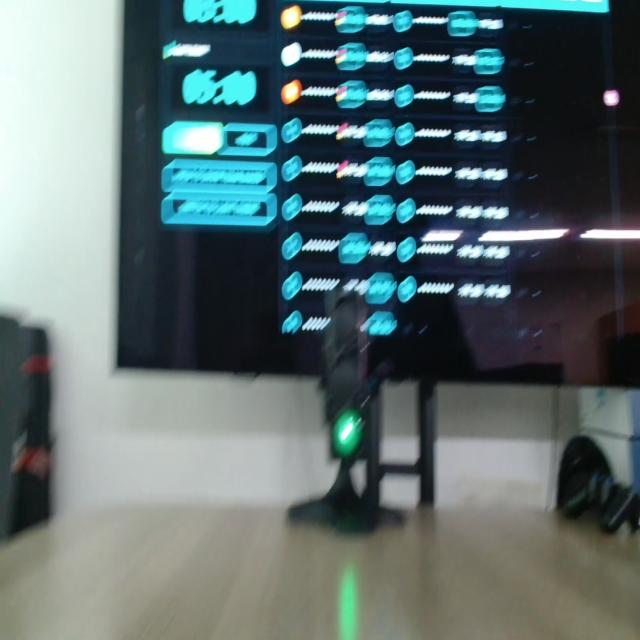green_light: (333, 409, 362, 458)
